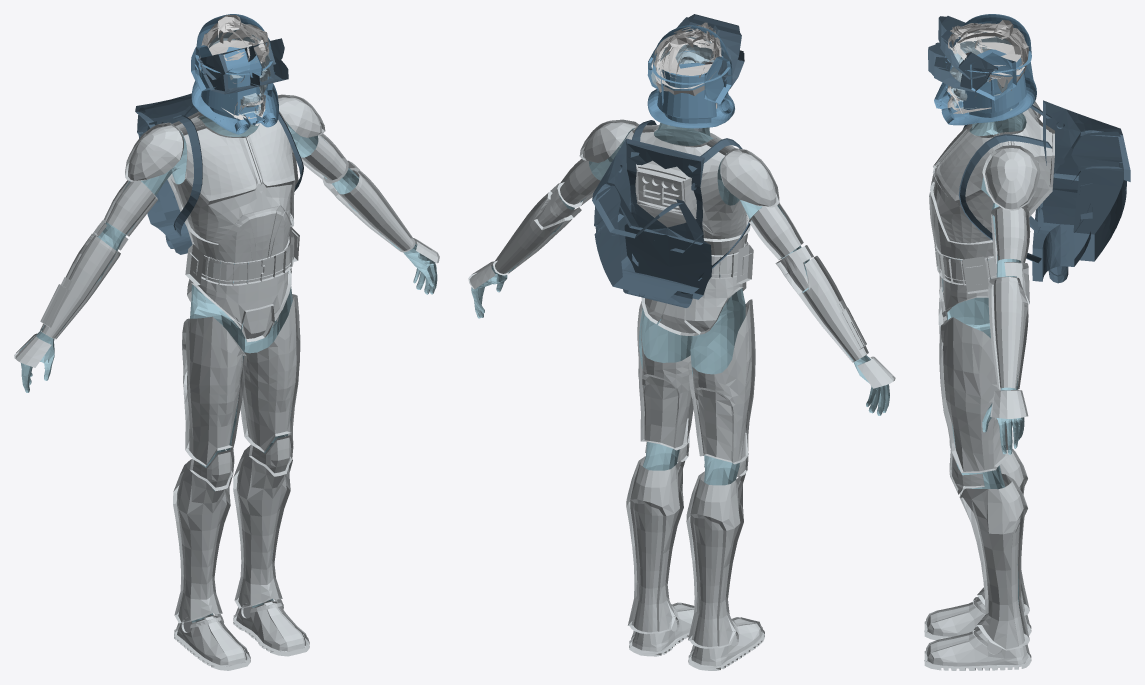
The model's file is 821_tech.glb.
The picture shows the model from 3 angles, left to right: view 1: azimuth 30°, elevation 25°; view 2: azimuth 150°, elevation 25°; view 3: azimuth 270°, elevation 25°; orthographic projection.
Visible parts, largest first — view 1: bg_01_armor__option_00_clone_armor.smd__mesh_00, bg_00_body__option_00_body.smd__mesh_00, bg_02_helmet__option_00_helmet_spec.smd__mesh_00, bg_06_Backpack__option_01_backpack.smd__mesh_00, bg_05_helmet attachments__option_02_helmet_binos_down.smd__m, bg_05_helmet attachments__option_01_helmet_binos_up.smd__mes, bg_02_helmet__option_01_new_head.smd__mesh_00; view 2: bg_01_armor__option_00_clone_armor.smd__mesh_00, bg_06_Backpack__option_01_backpack.smd__mesh_00, bg_00_body__option_00_body.smd__mesh_00, bg_02_helmet__option_00_helmet_spec.smd__mesh_00, bg_05_helmet attachments__option_01_helmet_binos_up.smd__mes, bg_02_helmet__option_01_new_head.smd__mesh_00, bg_03_Hair__option_15_hair_slick.smd__mesh_00; view 3: bg_01_armor__option_00_clone_armor.smd__mesh_00, bg_06_Backpack__option_01_backpack.smd__mesh_00, bg_02_helmet__option_00_helmet_spec.smd__mesh_00, bg_00_body__option_00_body.smd__mesh_00, bg_05_helmet attachments__option_01_helmet_binos_up.smd__mes, bg_05_helmet attachments__option_02_helmet_binos_down.smd__m, bg_02_helmet__option_01_new_head.smd__mesh_00, bg_03_Hair__option_15_hair_slick.smd__mesh_00, bg_03_Hair__option_11_hair_tail.smd__mesh_00, bg_03_Hair__option_07_hair7_reference.smd__mesh_00.
Part boxes in pixels (<box>): bg_01_armor__option_00_clone_armor.smd__mesh_00: <box>14,94,439,670</box>; bg_00_body__option_00_body.smd__mesh_00: <box>19,115,437,622</box>; bg_02_helmet__option_00_helmet_spec.smd__mesh_00: <box>191,14,278,134</box>; bg_06_Backpack__option_01_backpack.smd__mesh_00: <box>135,93,303,254</box>; bg_05_helmet attachments__option_02_helmet_binos_down.smd__m: <box>200,54,288,94</box>; bg_05_helmet attachments__option_01_helmet_binos_up.smd__mes: <box>197,38,284,79</box>; bg_02_helmet__option_01_new_head.smd__mesh_00: <box>199,29,270,116</box>; bg_01_armor__option_00_clone_armor.smd__mesh_00: <box>468,119,895,670</box>; bg_06_Backpack__option_01_backpack.smd__mesh_00: <box>592,120,750,307</box>; bg_00_body__option_00_body.smd__mesh_00: <box>471,112,889,485</box>; bg_02_helmet__option_00_helmet_spec.smd__mesh_00: <box>647,25,734,128</box>; bg_05_helmet attachments__option_01_helmet_binos_up.smd__mes: <box>677,14,741,77</box>; bg_02_helmet__option_01_new_head.smd__mesh_00: <box>651,36,721,131</box>; bg_03_Hair__option_15_hair_slick.smd__mesh_00: <box>657,32,716,75</box>; bg_01_armor__option_00_clone_armor.smd__mesh_00: <box>924,101,1054,670</box>; bg_06_Backpack__option_01_backpack.smd__mesh_00: <box>958,100,1130,283</box>; bg_02_helmet__option_00_helmet_spec.smd__mesh_00: <box>934,14,1036,125</box>; bg_00_body__option_00_body.smd__mesh_00: <box>942,108,1026,607</box>; bg_05_helmet attachments__option_01_helmet_binos_up.smd__mes: <box>938,16,997,79</box>; bg_05_helmet attachments__option_02_helmet_binos_down.smd__m: <box>928,42,993,92</box>; bg_02_helmet__option_01_new_head.smd__mesh_00: <box>949,31,1020,109</box>; bg_03_Hair__option_15_hair_slick.smd__mesh_00: <box>957,27,1021,66</box>; bg_03_Hair__option_11_hair_tail.smd__mesh_00: <box>966,20,1021,58</box>; bg_03_Hair__option_07_hair7_reference.smd__mesh_00: <box>960,23,1028,63</box>.
Bounding box in the file's own units: 52.96 × 74.31 × 22.08.
